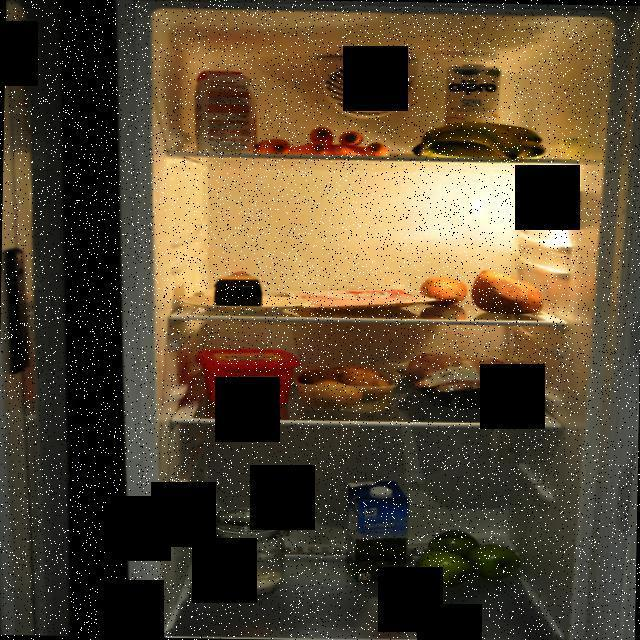Apple: (414, 526, 523, 590)
Banana: (412, 122, 548, 162)
Butter stick/block: (192, 346, 300, 408)
Carrot: (254, 122, 396, 159)
Cheese: (208, 266, 264, 308)
Chicken: (392, 349, 532, 412)
Flour: (198, 504, 292, 599)
Ham: (282, 284, 441, 312)
Milk carton/jug: (342, 477, 412, 582), (442, 60, 502, 152)
Potato: (285, 360, 395, 410)
Sugar: (192, 69, 260, 153)
Sweet Potato: (470, 266, 544, 317), (416, 276, 467, 306)
